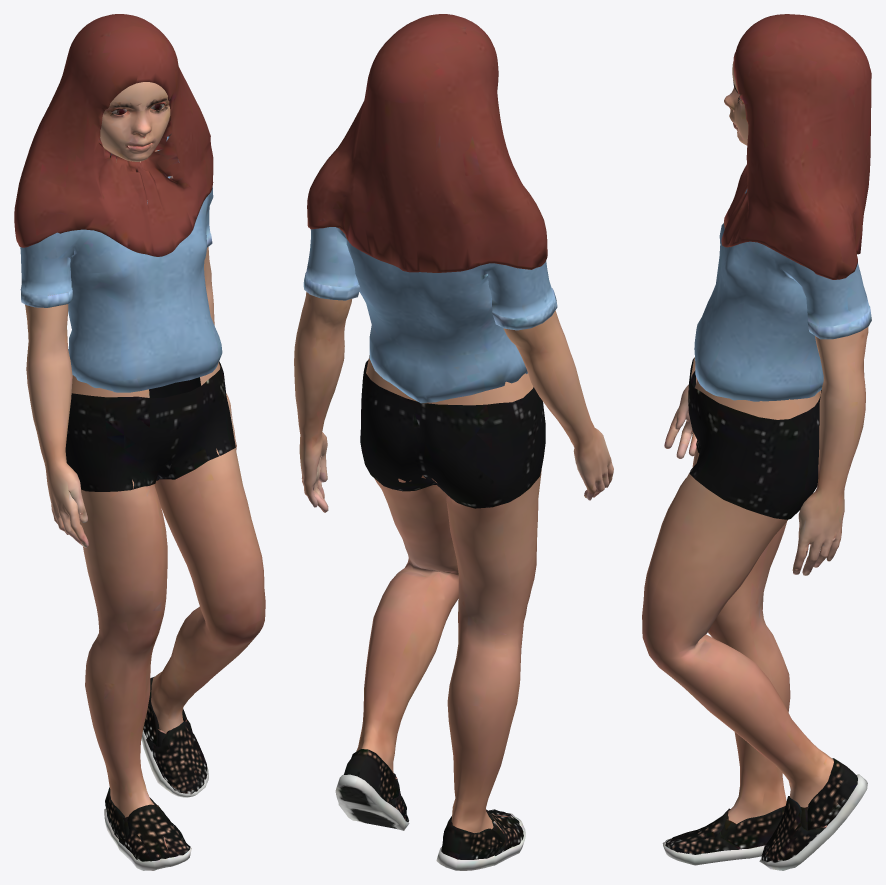
3 views of the same model, side by side, from view 1: azimuth 30°, elevation 25°; view 2: azimuth 150°, elevation 25°; view 3: azimuth 270°, elevation 25° (orthographic). The views are drawn at different scales.
Parts seen in each view (by area): view 1: hijabv3_w005; view 2: hijabv3_w005; view 3: hijabv3_w005.
Part boxes in pixels (x1=…): hijabv3_w005: x1=14, y1=14, x2=265, y2=870; hijabv3_w005: x1=294, y1=14, x2=613, y2=870; hijabv3_w005: x1=642, y1=14, x2=871, y2=870.
Bounding box in the file's own units: 0.4147 × 1.39 × 0.3432.
1 material, 1 textured.
